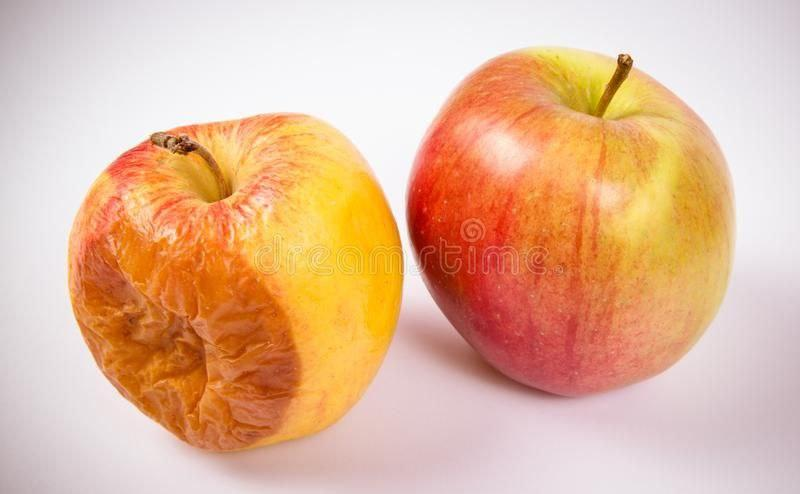Apple: (64, 112, 408, 446), (410, 46, 734, 400)
